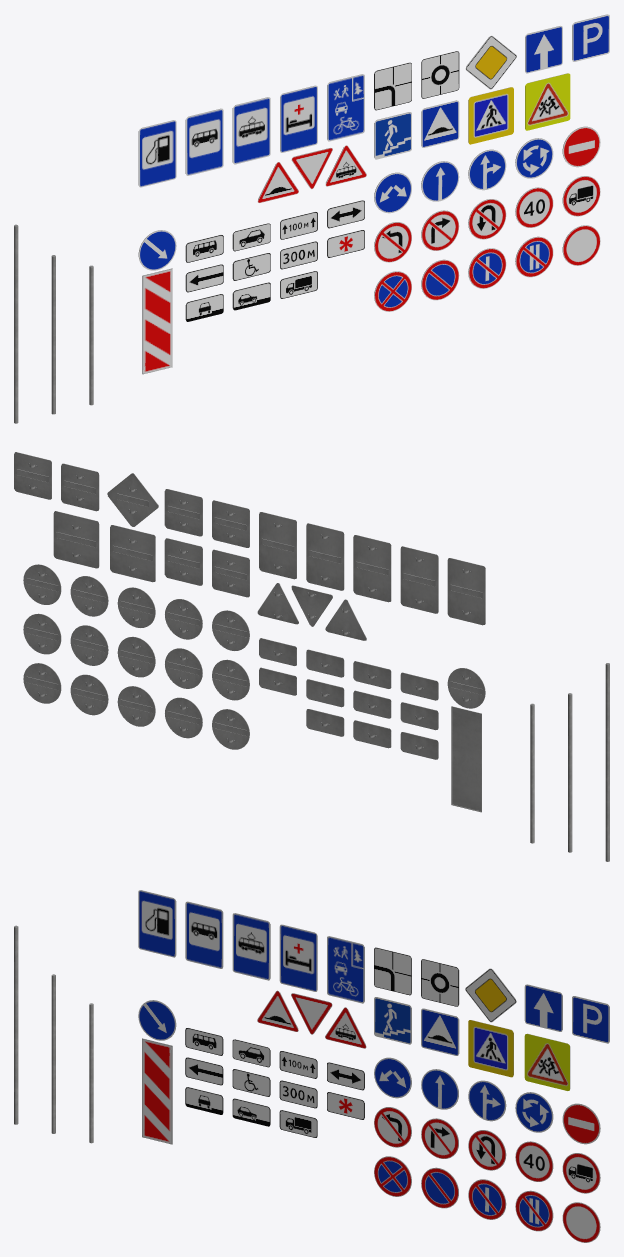
File: modular_russian_road_signs_pack_urban.glb
3 renders of one model, top to bottom at view 1: azimuth 30°, elevation 25°; view 2: azimuth 150°, elevation 25°; view 3: azimuth 330°, elevation 25°, orthographic.
Visible parts, largest first — view 1: Obstacle, GAS, BusStop, TramStop, Hospital, Yard, Children, RoadCrossing, RoundDirect, SpeedBump, MainRoad, MainDirect (+36 smaller); view 2: Obstacle, BusStop, Hospital, GAS, TramStop, Yard, Children, RoadCrossing, oneWay, RoundDirect, SpeedBump, MainRoad (+36 smaller); view 3: Obstacle, TramStop, BusStop, GAS, Hospital, Yard, Children, RoadCrossing, oneWay, SpeedBump, RoundDirect, MainRoad (+36 smaller).
Boxes of the visible parts, left/top/right/bottom form: Obstacle: left=142, top=268, right=172, bottom=374; GAS: left=138, top=120, right=176, bottom=187; BusStop: left=185, top=108, right=223, bottom=175; TramStop: left=232, top=97, right=270, bottom=164; Hospital: left=280, top=85, right=317, bottom=152; Yard: left=327, top=74, right=364, bottom=141; Children: left=525, top=73, right=570, bottom=130; RoadCrossing: left=468, top=87, right=513, bottom=144; RoundDirect: left=421, top=51, right=459, bottom=98; SpeedBump: left=421, top=100, right=459, bottom=147; MainRoad: left=465, top=35, right=516, bottom=89; MainDirect: left=374, top=62, right=411, bottom=110; Obstacle: left=451, top=706, right=481, bottom=812; BusStop: left=400, top=546, right=438, bottom=613; Hospital: left=306, top=523, right=344, bottom=590; GAS: left=447, top=558, right=485, bottom=625; TramStop: left=353, top=535, right=391, bottom=602; Yard: left=259, top=512, right=296, bottom=579; Children: left=53, top=511, right=99, bottom=568; RoadCrossing: left=110, top=525, right=155, bottom=582; oneWay: left=61, top=463, right=99, bottom=511; RoundDirect: left=164, top=489, right=202, bottom=536; SpeedBump: left=164, top=538, right=202, bottom=585; MainRoad: left=107, top=473, right=158, bottom=526; Obstacle: left=142, top=1038, right=172, bottom=1144; TramStop: left=232, top=913, right=270, bottom=980; BusStop: left=185, top=901, right=223, bottom=968; GAS: left=138, top=890, right=176, bottom=957; Hospital: left=279, top=924, right=317, bottom=991; Yard: left=327, top=936, right=364, bottom=1003; Children: left=524, top=1033, right=570, bottom=1090; RoadCrossing: left=468, top=1020, right=513, bottom=1077; oneWay: left=524, top=984, right=562, bottom=1031; SpeedBump: left=421, top=1008, right=459, bottom=1055; RoundDirect: left=421, top=959, right=459, bottom=1006; MainRoad: left=465, top=968, right=516, bottom=1022.
Size of the model in its own units: 31.6 by 13.76 by 0.2905.
Materials: 45 (45 with a texture image).
